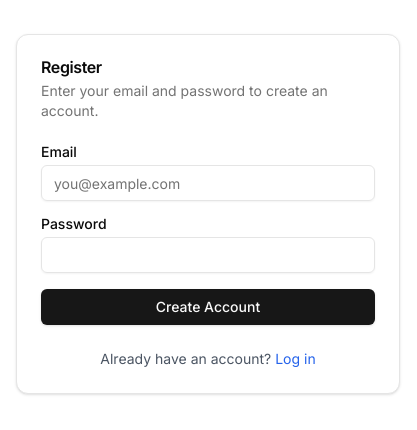
it: RegisterPage › displays an error message when signUp fails
The width and height of the screenshot is (417, 430).
In the field labelled "Email": (208, 183) [41,165,375,201], type "test@example.com"
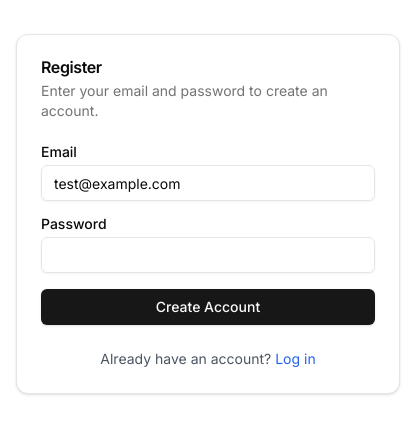
In the password field labelled "Password": (208, 255) [41,237,375,273], type "password123"
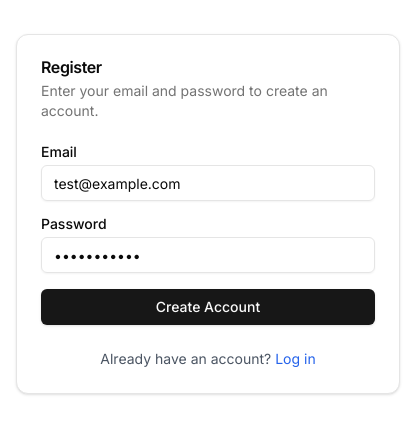
Click the button "Create Account": click(208, 307) [41,289,375,325]
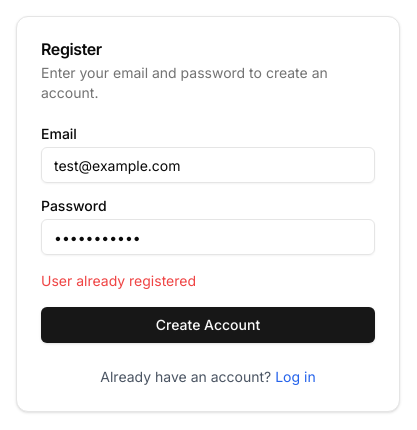
Expected: the text "User already registered" is shown, [41,272,196,289]
